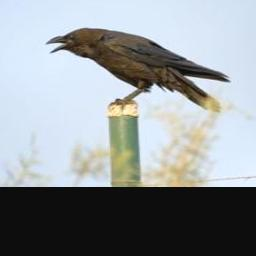Crow: (42, 23, 235, 113)
